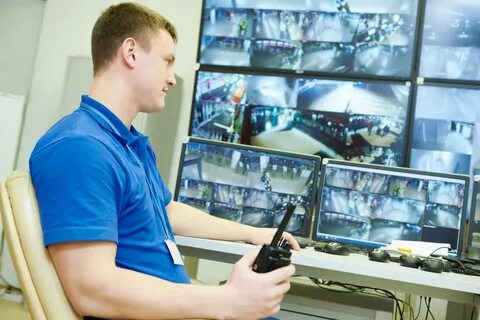awake: (28, 1, 301, 319)
